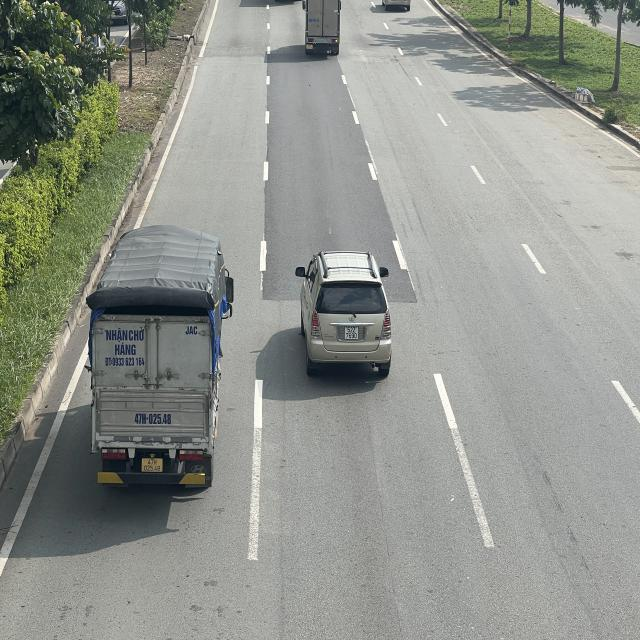car: (296, 250, 394, 376)
truck: (88, 228, 235, 486), (301, 0, 340, 56)
